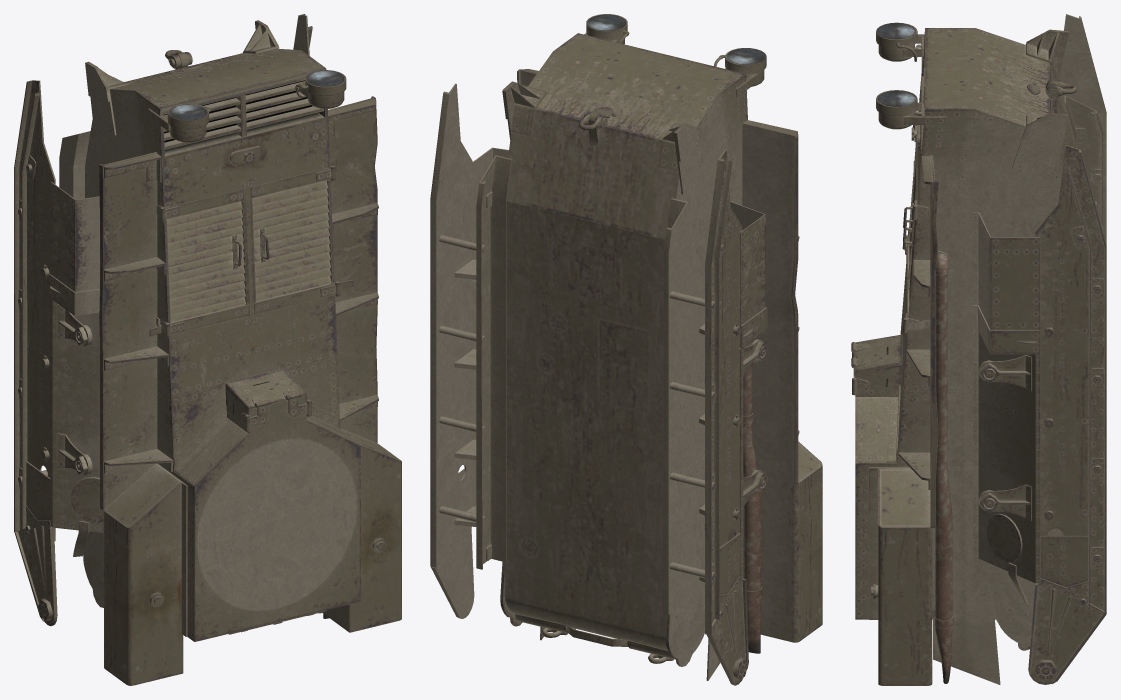
The model's file is Hull.glb.
3 views of the same model, side by side, from view 1: azimuth 30°, elevation 25°; view 2: azimuth 150°, elevation 25°; view 3: azimuth 270°, elevation 25° (orthographic).
Parts seen in each view (by area): view 1: set_0_group_0; view 2: set_0_group_0; view 3: set_0_group_0.
Boxes of the visible parts, box(x1,y1,x2,y2) form: set_0_group_0: box(14, 14, 401, 685); set_0_group_0: box(430, 14, 822, 685); set_0_group_0: box(851, 14, 1106, 685).
Bounding box in the file's own units: 1.78 × 3.5 × 1.4.
Materials: 1 (1 with a texture image).
